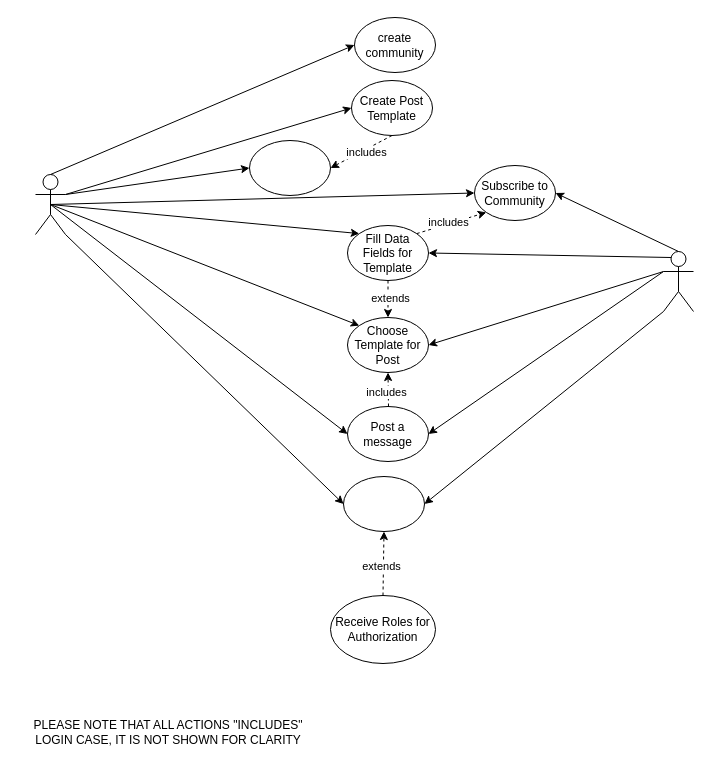
The diagram is 711 pixels wide and 773 high, and some of its shapes have lost their labels. Each missing label, with the box of its shape:
Creator: (34, 174, 66, 234)
Define Data Fields for Post Template: (248, 140, 330, 196)
login: (342, 476, 424, 532)
User: (662, 250, 694, 312)
